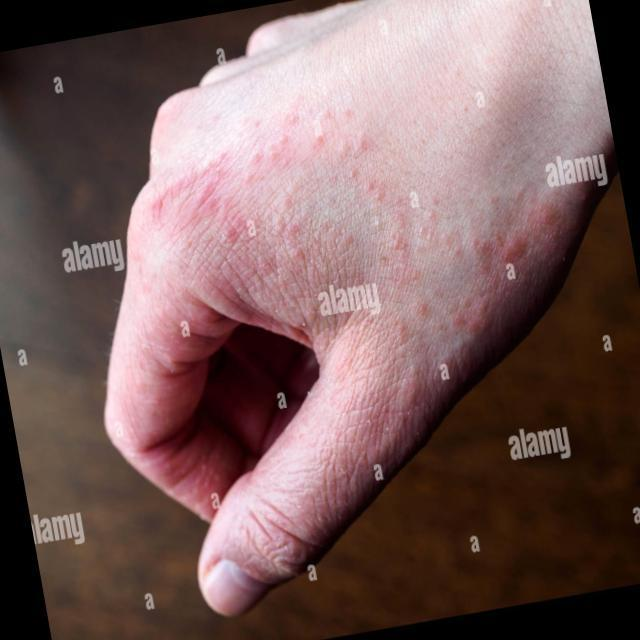Eczema: (127, 106, 573, 462)
